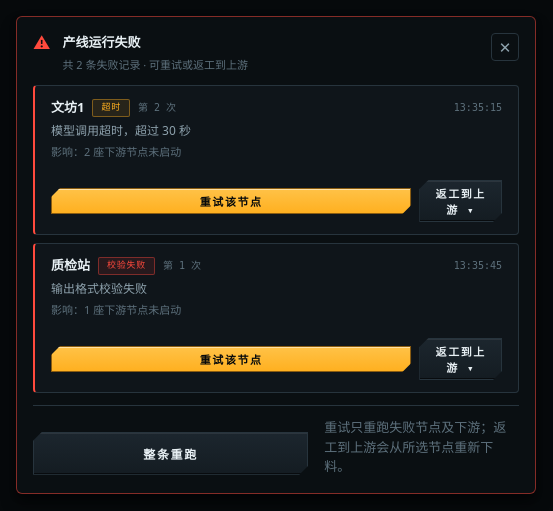
it: FailurePanel › 返工到上游 › 再次点击'返工到上游'收起下拉菜单
Click the button "返工到上游 ▾" below "影响：2 座下游节点未启动". click: (461,201)
box: x1=419 y1=180 x2=502 y2=222
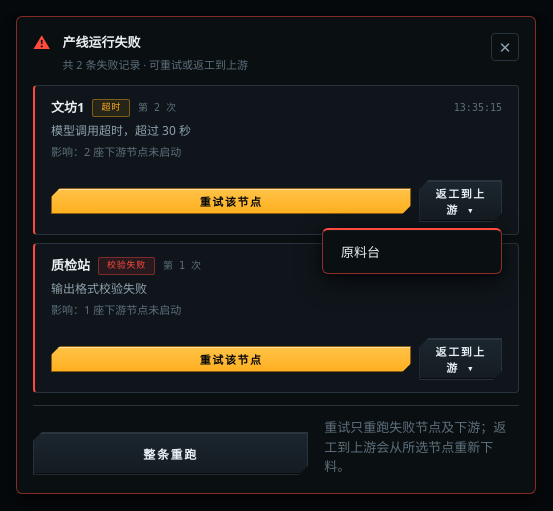
Result: the button "原料台" is shown at x1=327 y1=234 x2=497 y2=269
Click the button "返工到上游 ▾" below "影响：2 座下游节点未启动". click: (461,201)
box: x1=419 y1=180 x2=502 y2=222
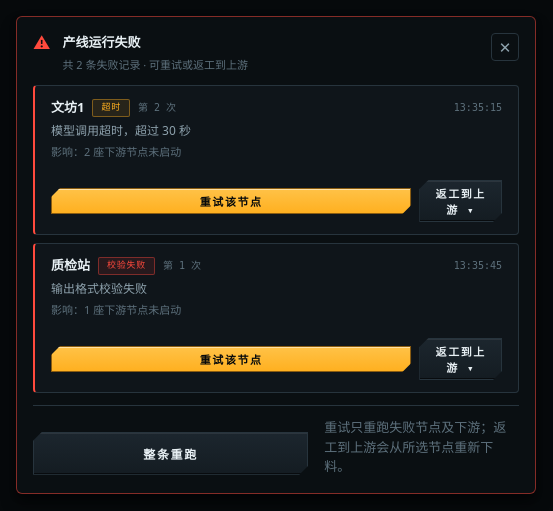
Result: the button "原料台" is gone
